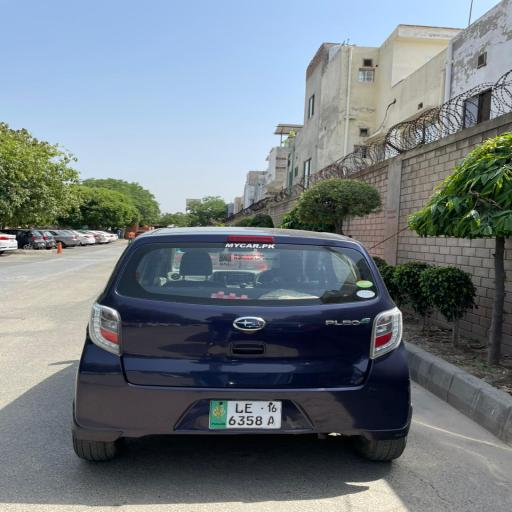number_plate: (210, 400, 283, 431)
